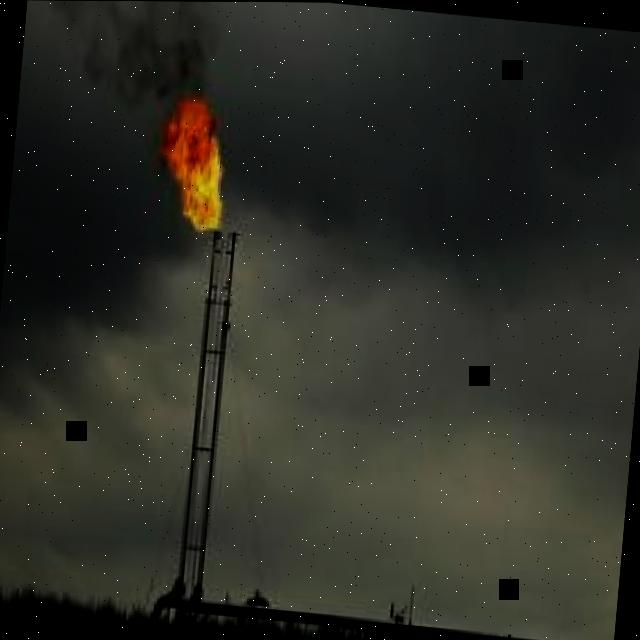fire: (160, 93, 224, 232)
smoke: (48, 0, 218, 109)
